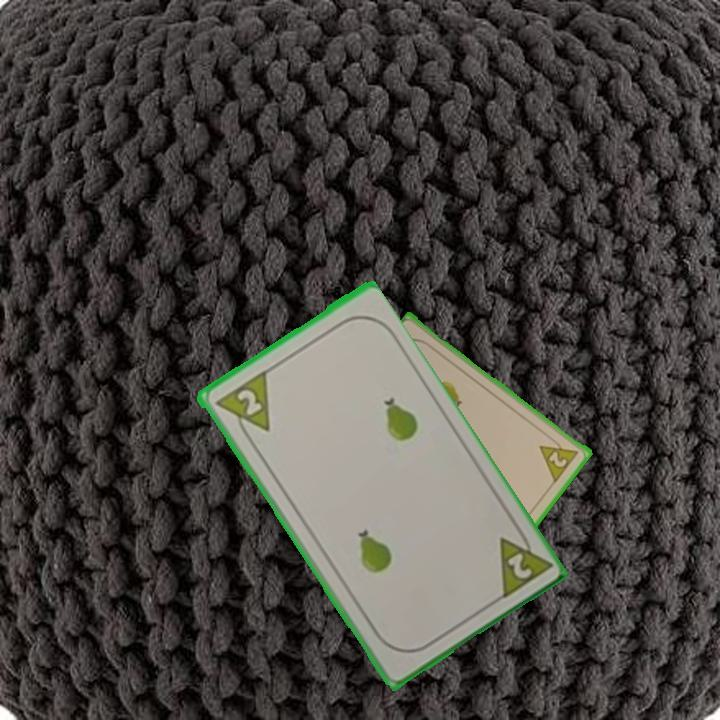2p: (494, 521, 553, 603), (211, 368, 273, 445), (536, 433, 582, 484)
